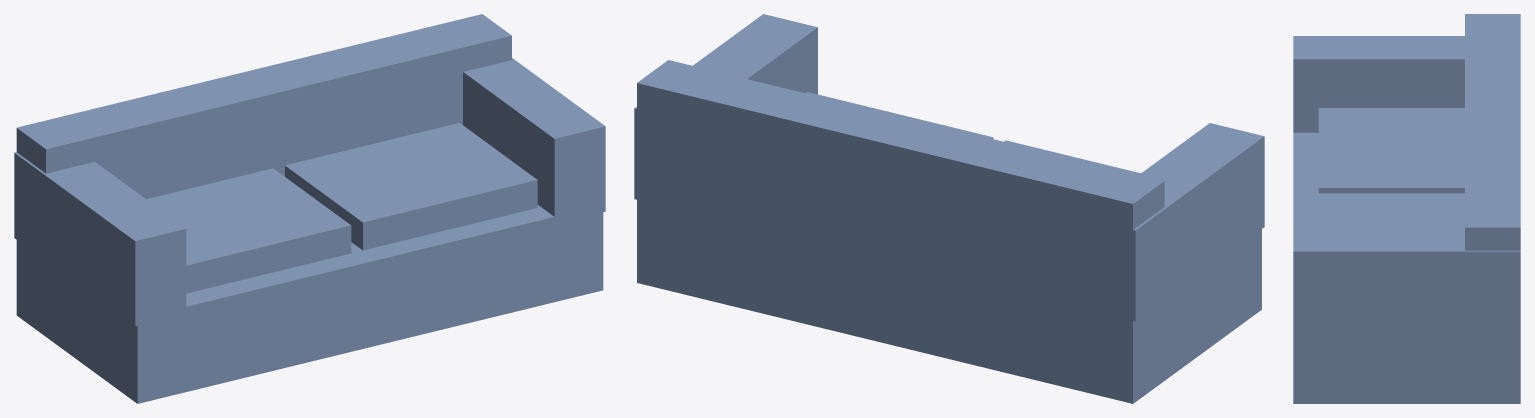
Rendered from fu_sofa.glb.
3 views of the same model, side by side, from view 1: azimuth 30°, elevation 25°; view 2: azimuth 150°, elevation 25°; view 3: azimuth 270°, elevation 25° (orthographic). The views are drawn at different scales.
Visible parts, largest first — view 1: fu_sofa; view 2: fu_sofa; view 3: fu_sofa.
Boxes of the visible parts, x1=… form: fu_sofa: x1=14, y1=14, x2=605, y2=403; fu_sofa: x1=634, y1=14, x2=1264, y2=403; fu_sofa: x1=1293, y1=14, x2=1520, y2=403.
Bounding box in the file's own units: 2.02 × 0.77 × 0.9.
